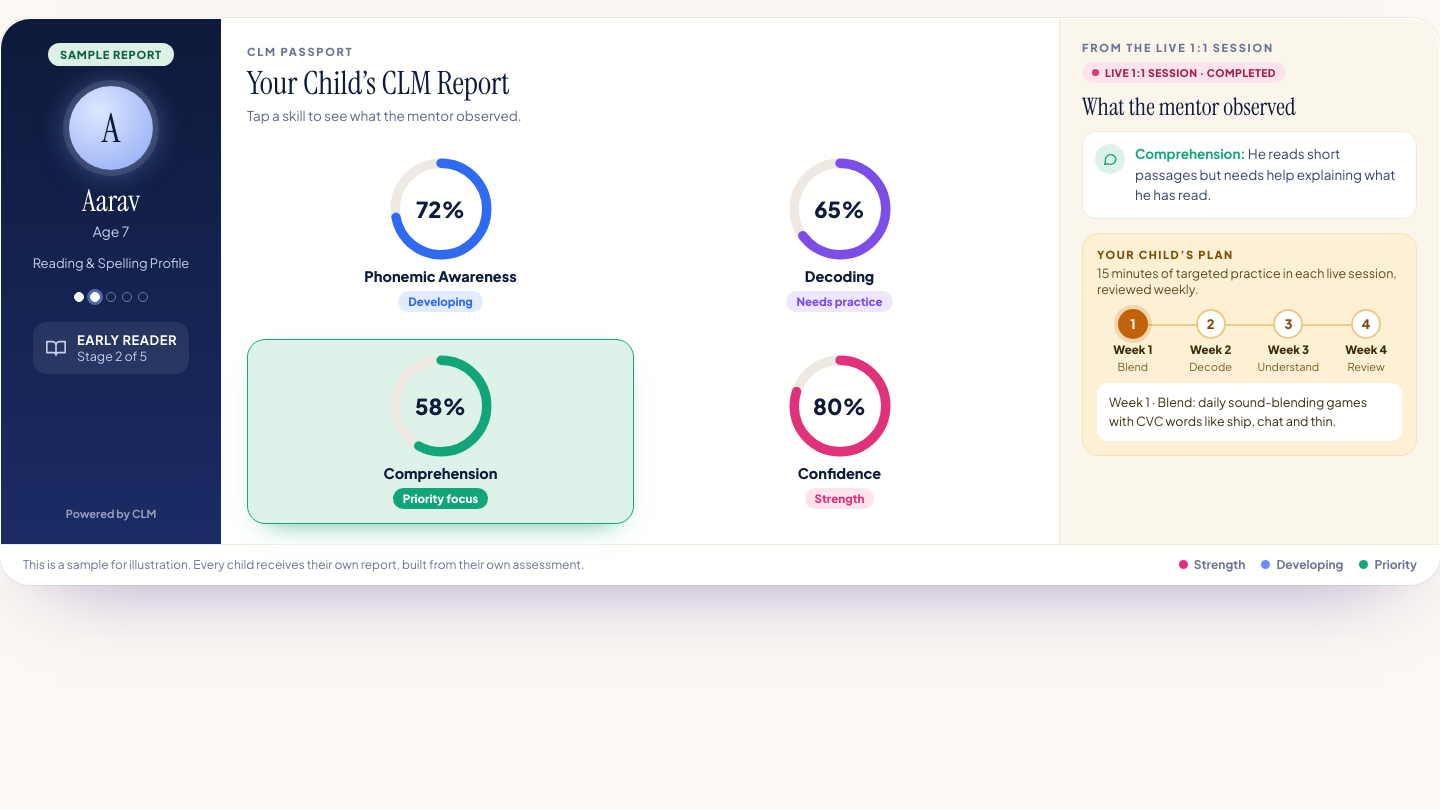
Test: ReportPreview › shows the focus of the tapped week
Click the button "3 Week 3 Understand".
click(1288, 341)  # box [1252,309,1324,373]
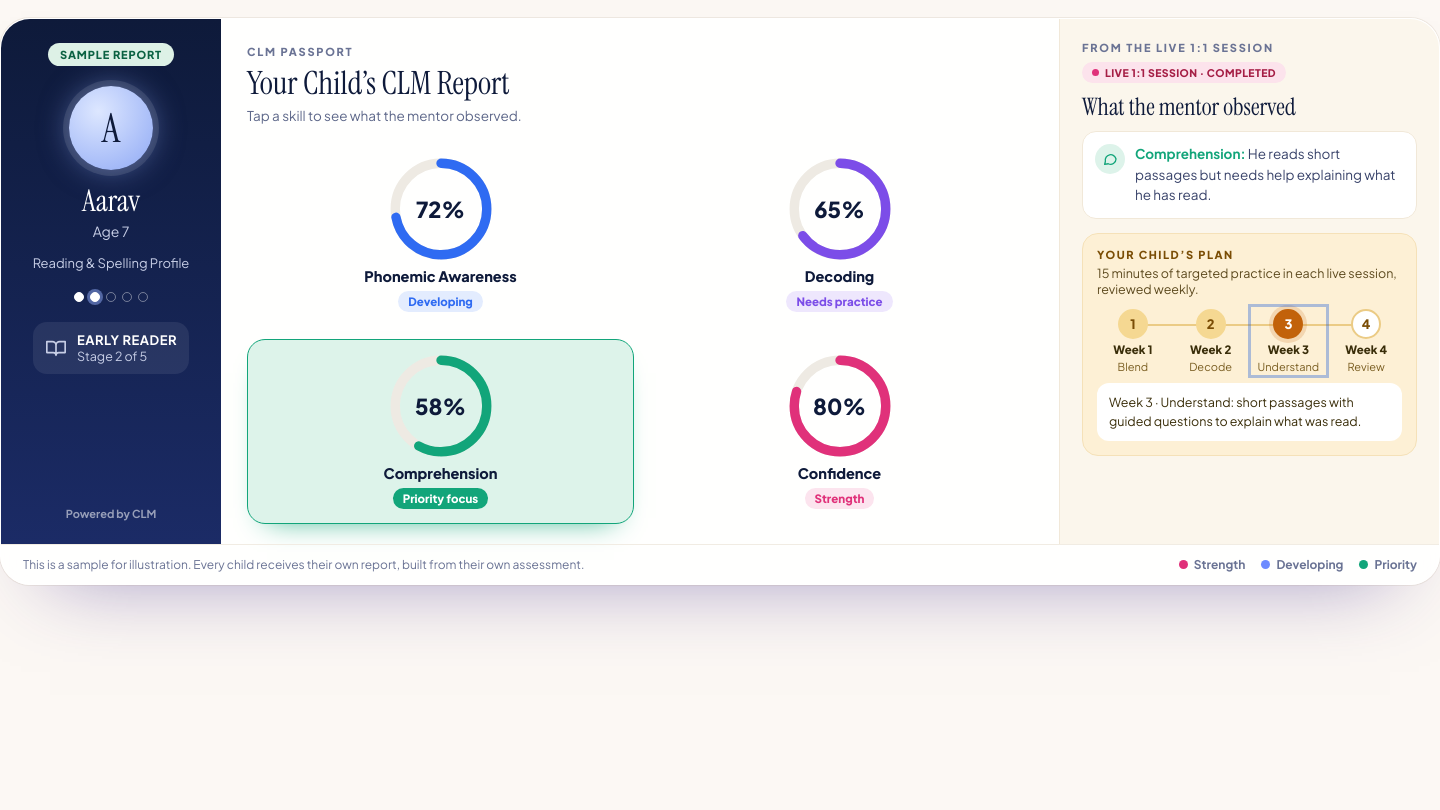
Now the text "Week 1 · Blend: daily sound-blending games with CVC words like ship, chat and thin." is gone
